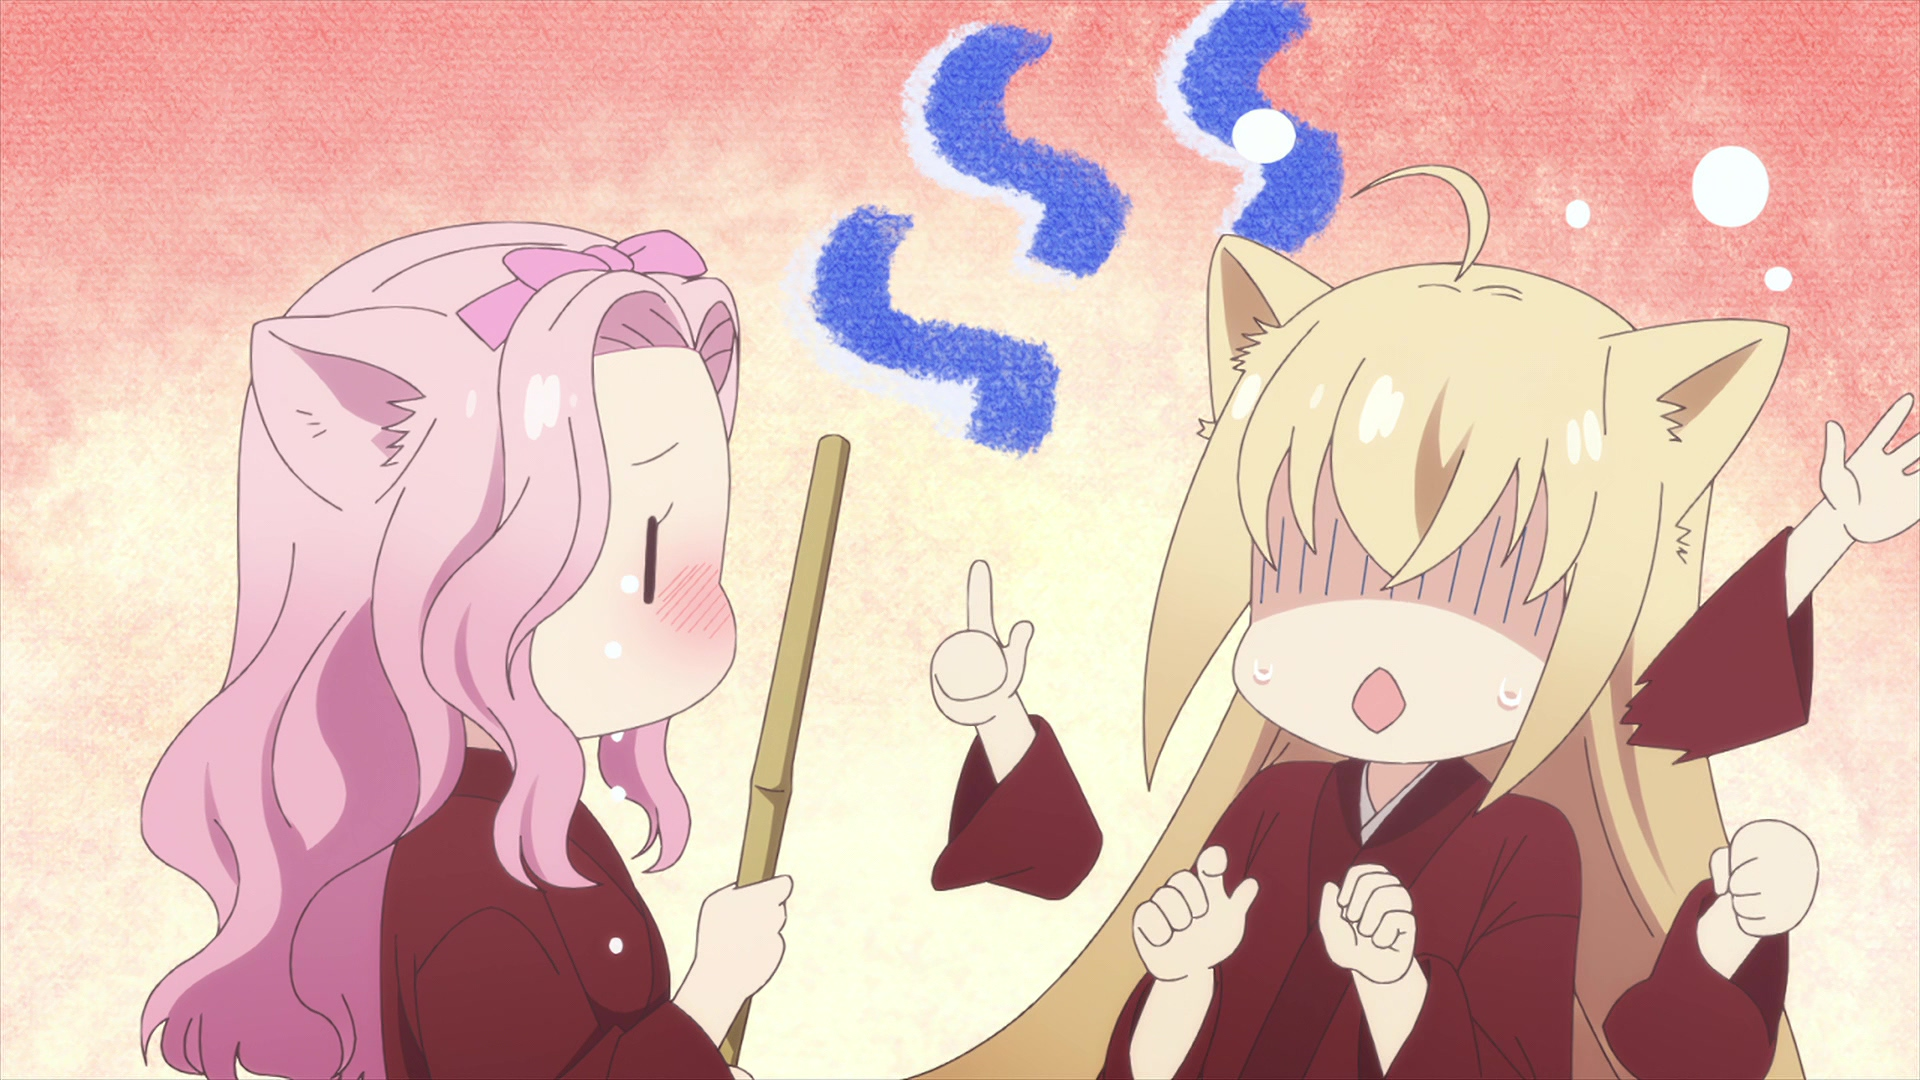柚: (913, 165, 1920, 1080)
莲: (141, 220, 851, 1080)
